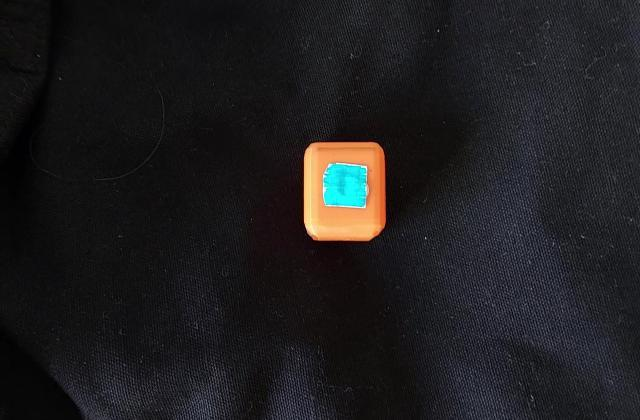blue: (330, 172, 362, 200)
sticker: (301, 141, 388, 246)
